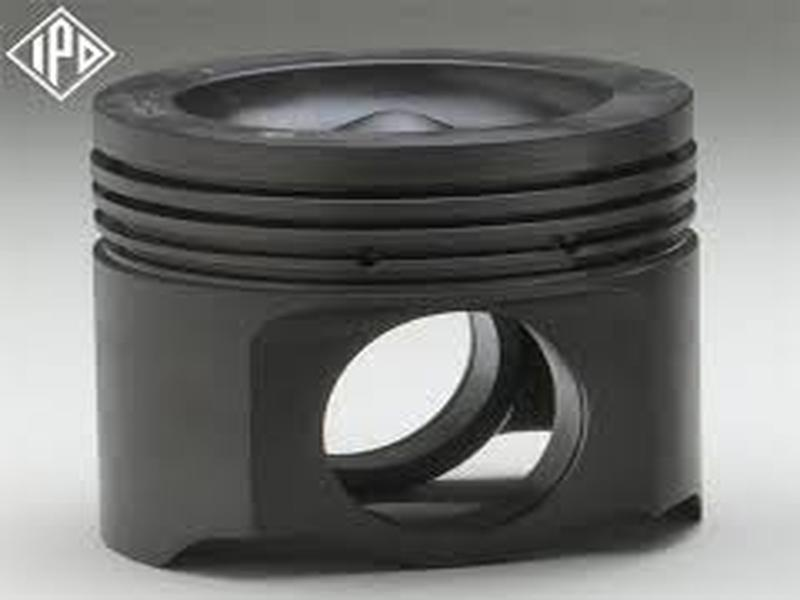piston: (85, 43, 713, 578)
